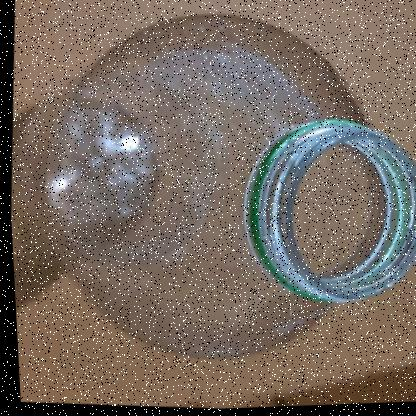open bottle: (76, 1, 416, 414)
